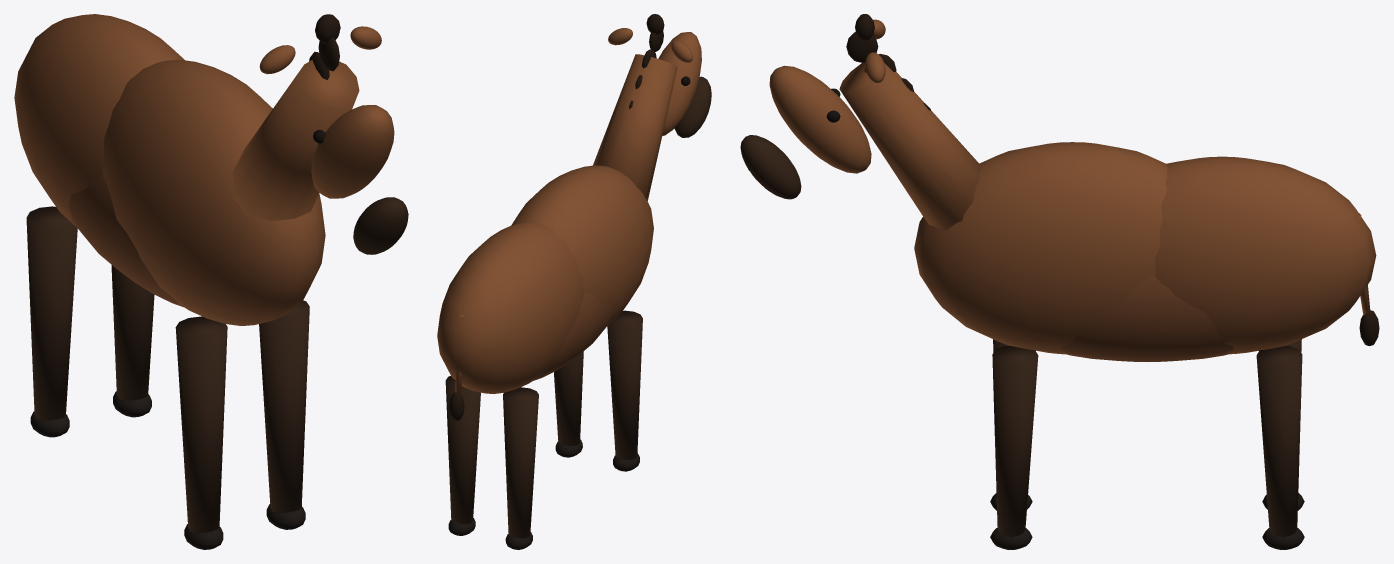
Rendered from horse.glb.
The picture shows the model from 3 angles, left to right: view 1: azimuth 30°, elevation 25°; view 2: azimuth 150°, elevation 25°; view 3: azimuth 270°, elevation 25°; orthographic projection. The views are drawn at different scales.
Parts seen in each view (by area): view 1: horse; view 2: horse; view 3: horse.
Boxes of the visible parts, <box> form: horse: <box>14,14,408,549</box>; horse: <box>437,14,711,549</box>; horse: <box>740,14,1379,549</box>.
Bounding box in the file's own units: 0.742 × 2.84 × 3.19.
